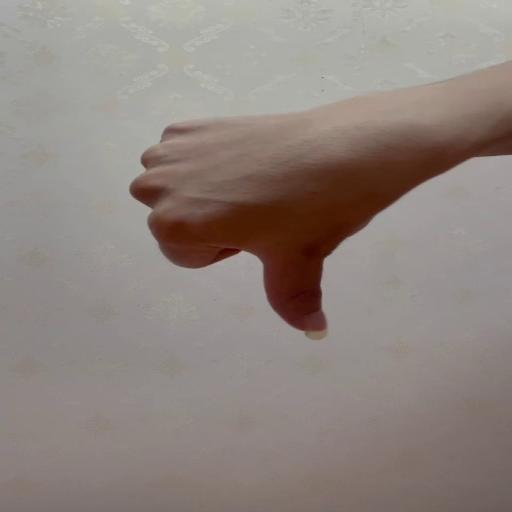thumbs_down: (126, 115, 378, 340)
